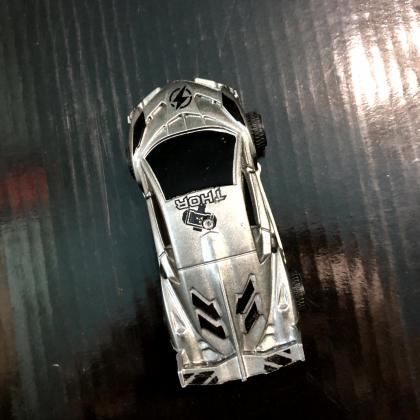Car: (127, 79, 306, 390)
